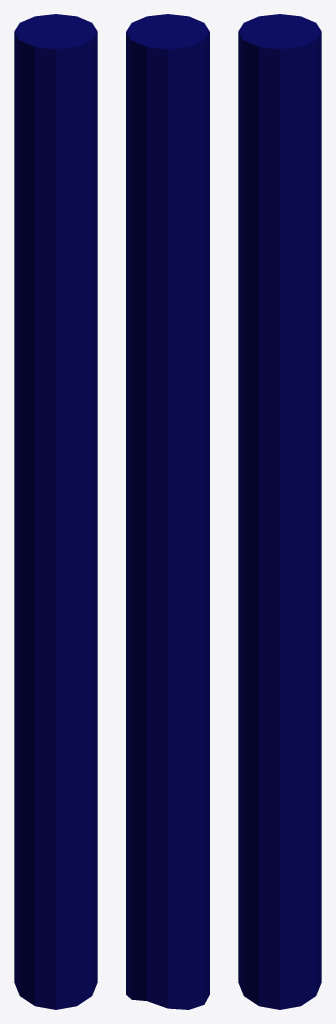
Rendered from pendulum_part_2.dae.
The picture shows the model from 3 angles, left to right: view 1: azimuth 90°, elevation 25°; view 2: azimuth 150°, elevation 25°; view 3: azimuth 270°, elevation 25°; orthographic projection.
Visible parts, largest first — view 1: group_0; view 2: group_0; view 3: group_0.
Boxes of the visible parts, left/top/right/bottom form: group_0: left=14, top=14, right=97, bottom=1009; group_0: left=126, top=14, right=209, bottom=1009; group_0: left=238, top=14, right=321, bottom=1009.
Size of the model in its own units: 115 by 115 by 1456.
